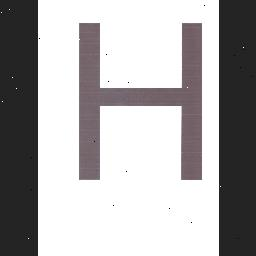h: (70, 12, 218, 188)
